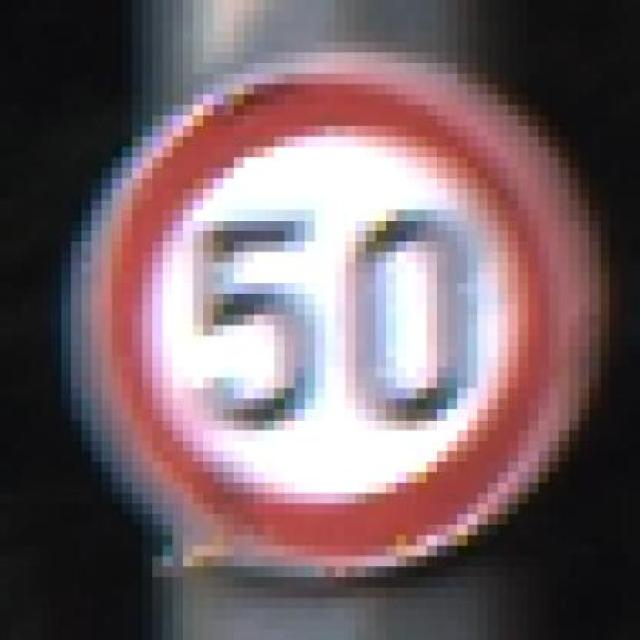Speed limit 50: (61, 57, 610, 574)
